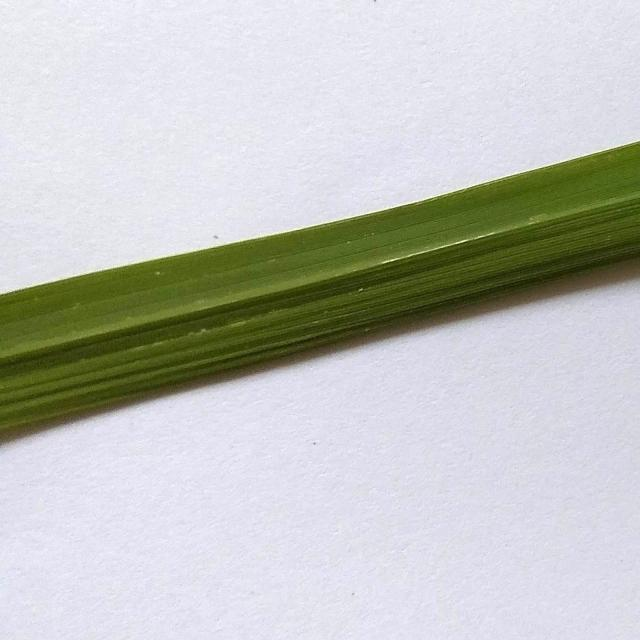healthy: (0, 127, 640, 459)
